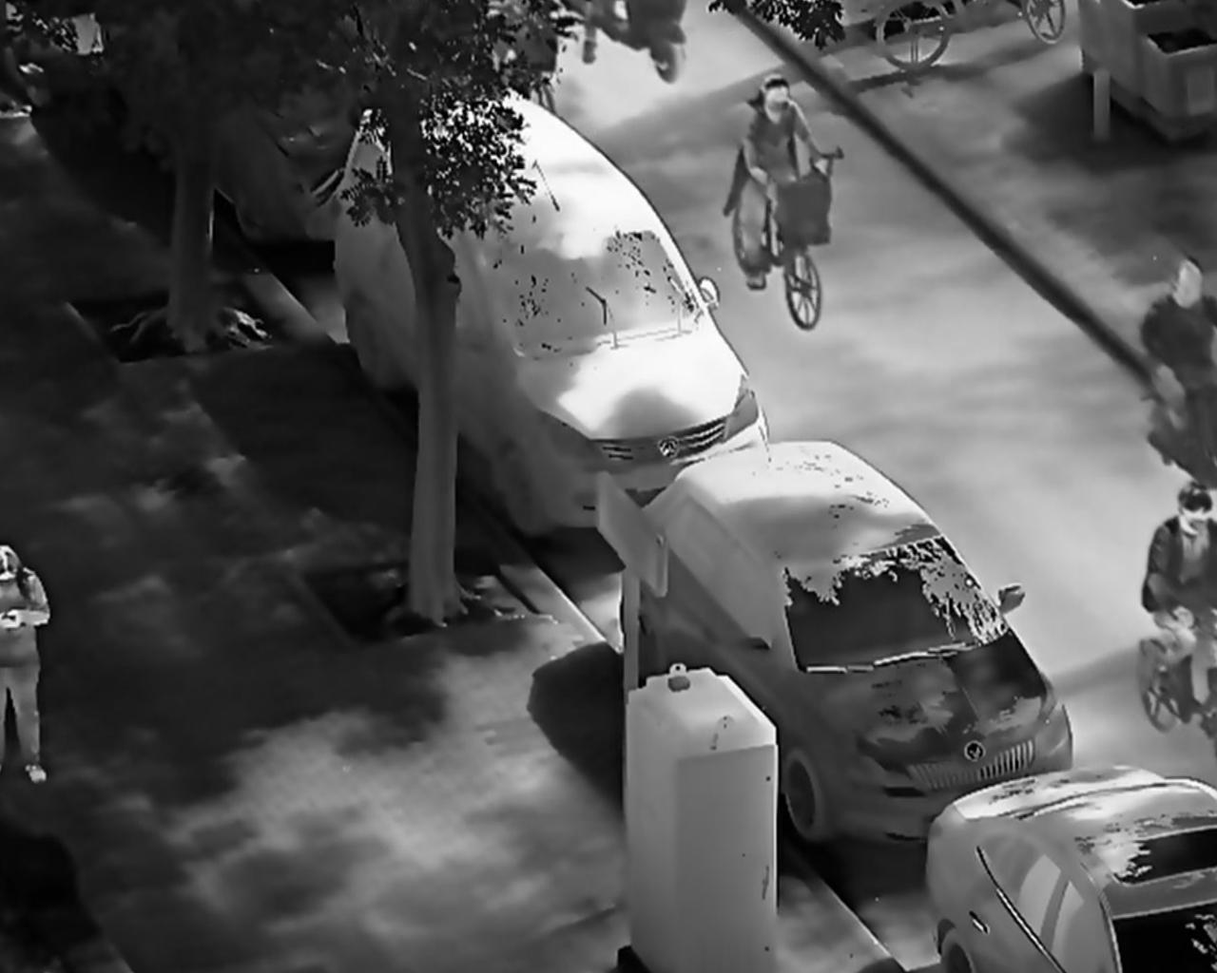person: (734, 72, 838, 294), (1139, 477, 1217, 729), (1139, 257, 1217, 445)
